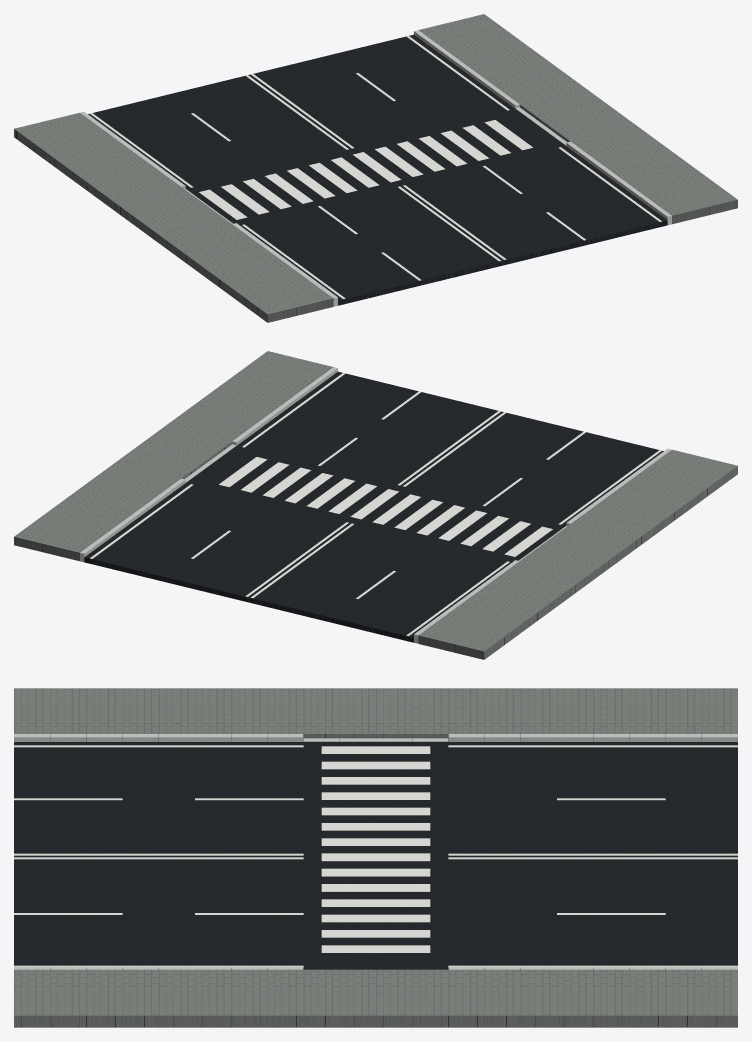
The model's file is RK3_Road_Urban4_Crosswalk_20m.glb.
The picture shows the model from 3 angles, top to bottom: view 1: azimuth 30°, elevation 25°; view 2: azimuth 150°, elevation 25°; view 3: azimuth 270°, elevation 25°; orthographic projection. The views are drawn at different scales.
Parts seen in each view (by area): view 1: Surface_Asphalt.003, Sidewalk_Paving.003, Markings_White.003, Curb_Concrete.003; view 2: Surface_Asphalt.003, Sidewalk_Paving.003, Markings_White.003, Curb_Concrete.003; view 3: Surface_Asphalt.003, Sidewalk_Paving.003, Markings_White.003, Curb_Concrete.003.
Boxes of the visible parts, left/top/right/bottom form: Surface_Asphalt.003: left=88, top=34, right=667, bottom=305; Sidewalk_Paving.003: left=14, top=14, right=737, bottom=322; Markings_White.003: left=90, top=35, right=661, bottom=299; Curb_Concrete.003: left=80, top=30, right=671, bottom=306; Surface_Asphalt.003: left=84, top=371, right=663, bottom=642; Sidewalk_Paving.003: left=14, top=351, right=737, bottom=659; Markings_White.003: left=90, top=372, right=661, bottom=636; Curb_Concrete.003: left=80, top=367, right=671, bottom=643; Surface_Asphalt.003: left=14, top=742, right=737, bottom=969; Sidewalk_Paving.003: left=14, top=688, right=737, bottom=1027; Markings_White.003: left=14, top=745, right=737, bottom=967; Curb_Concrete.003: left=14, top=734, right=737, bottom=969.
Size of the model in its own units: 21.4 by 0.37 by 20.
4 materials, 2 textured.
